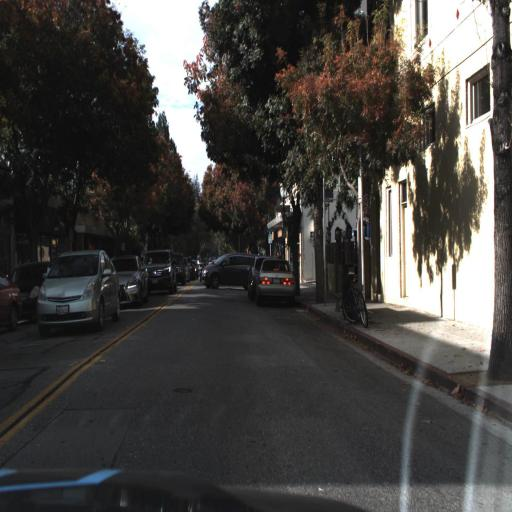car: (31, 246, 123, 338), (251, 255, 298, 307), (199, 247, 248, 292), (112, 251, 148, 309), (140, 244, 176, 300), (0, 263, 20, 328), (246, 252, 264, 297)
